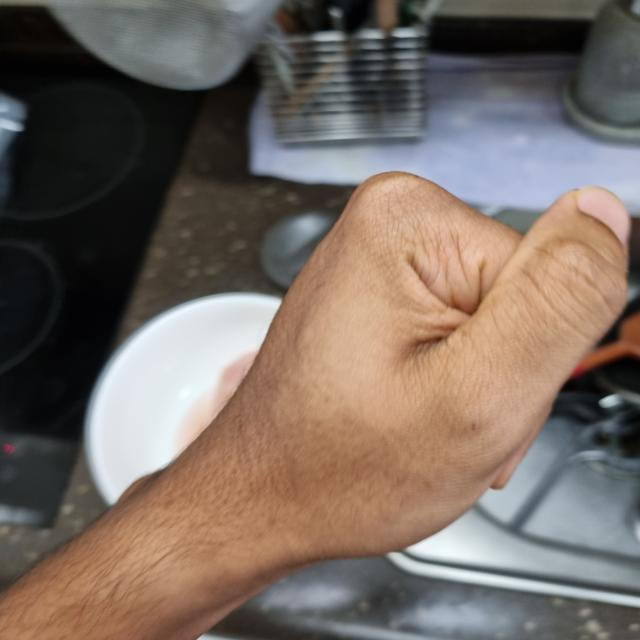Rock: (207, 177, 626, 556)
